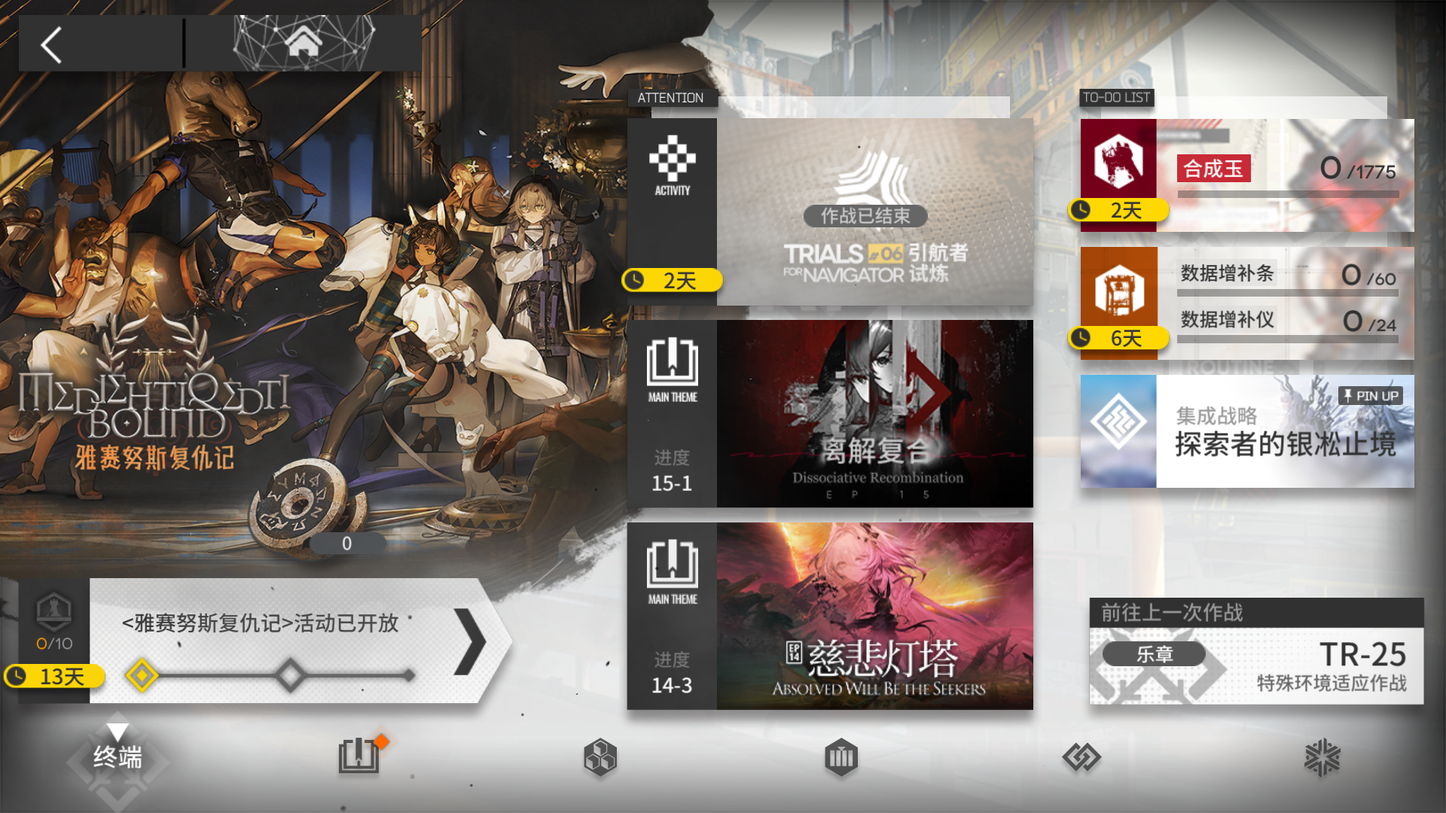Resource_Collection_Button: (548, 719, 708, 802)
Return_Button: (21, 17, 159, 74)
